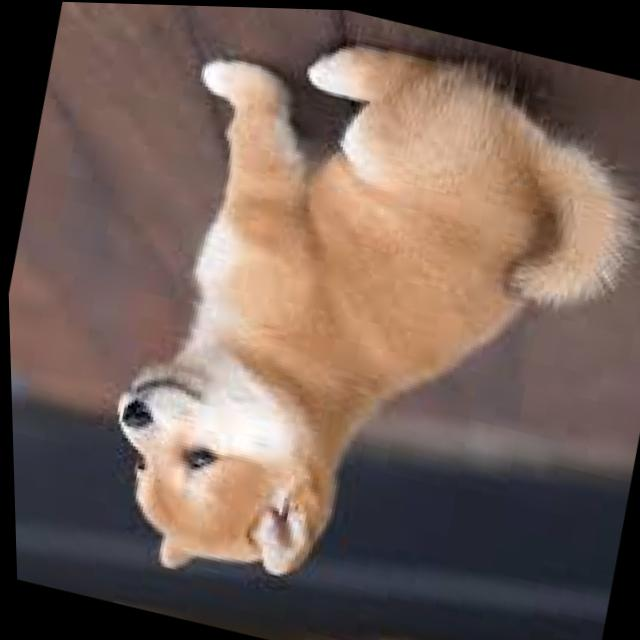Shiba-Inu: (72, 3, 640, 640)
